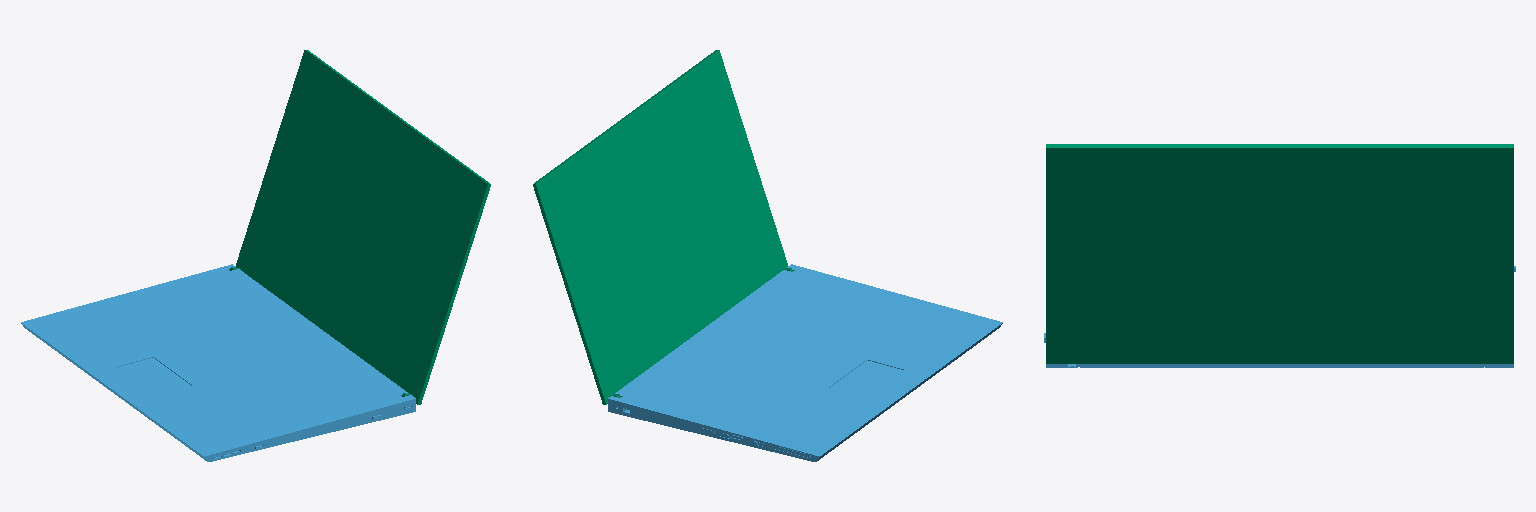
robot.urdf — partnet_2d38fa685e71721986a7e0484f5238e4:
<?xml version="1.0" ?>
<robot name="partnet_2d38fa685e71721986a7e0484f5238e4">
	<link name="base"/>
	<link name="link_0">
		<visual name="keyboard-5">
			<origin xyz="0 0 0"/>
			<geometry>
				<mesh filename="textured_objs/original-136.obj"/>
			</geometry>
		</visual>
		<visual name="keyboard-5">
			<origin xyz="0 0 0"/>
			<geometry>
				<mesh filename="textured_objs/original-106.obj"/>
			</geometry>
		</visual>
		<visual name="keyboard-5">
			<origin xyz="0 0 0"/>
			<geometry>
				<mesh filename="textured_objs/original-107.obj"/>
			</geometry>
		</visual>
		<visual name="keyboard-5">
			<origin xyz="0 0 0"/>
			<geometry>
				<mesh filename="textured_objs/original-108.obj"/>
			</geometry>
		</visual>
		<visual name="keyboard-5">
			<origin xyz="0 0 0"/>
			<geometry>
				<mesh filename="textured_objs/original-109.obj"/>
			</geometry>
		</visual>
		<visual name="keyboard-5">
			<origin xyz="0 0 0"/>
			<geometry>
				<mesh filename="textured_objs/original-110.obj"/>
			</geometry>
		</visual>
		<visual name="keyboard-5">
			<origin xyz="0 0 0"/>
			<geometry>
				<mesh filename="textured_objs/original-111.obj"/>
			</geometry>
		</visual>
		<visual name="keyboard-5">
			<origin xyz="0 0 0"/>
			<geometry>
				<mesh filename="textured_objs/original-112.obj"/>
			</geometry>
		</visual>
		<visual name="keyboard-5">
			<origin xyz="0 0 0"/>
			<geometry>
				<mesh filename="textured_objs/original-113.obj"/>
			</geometry>
		</visual>
		<visual name="keyboard-5">
			<origin xyz="0 0 0"/>
			<geometry>
				<mesh filename="textured_objs/original-82.obj"/>
			</geometry>
		</visual>
		<visual name="keyboard-5">
			<origin xyz="0 0 0"/>
			<geometry>
				<mesh filename="textured_objs/original-84.obj"/>
			</geometry>
		</visual>
		<visual name="keyboard-5">
			<origin xyz="0 0 0"/>
			<geometry>
				<mesh filename="textured_objs/original-83.obj"/>
			</geometry>
		</visual>
		<visual name="keyboard-5">
			<origin xyz="0 0 0"/>
			<geometry>
				<mesh filename="textured_objs/original-104.obj"/>
			</geometry>
		</visual>
		<visual name="keyboard-5">
			<origin xyz="0 0 0"/>
			<geometry>
				<mesh filename="textured_objs/original-103.obj"/>
			</geometry>
		</visual>
		<visual name="keyboard-5">
			<origin xyz="0 0 0"/>
			<geometry>
				<mesh filename="textured_objs/original-102.obj"/>
			</geometry>
		</visual>
		<visual name="keyboard-5">
			<origin xyz="0 0 0"/>
			<geometry>
				<mesh filename="textured_objs/original-101.obj"/>
			</geometry>
		</visual>
		<visual name="keyboard-5">
			<origin xyz="0 0 0"/>
			<geometry>
				<mesh filename="textured_objs/original-100.obj"/>
			</geometry>
		</visual>
		<visual name="keyboard-5">
			<origin xyz="0 0 0"/>
			<geometry>
				<mesh filename="textured_objs/original-99.obj"/>
			</geometry>
		</visual>
		<visual name="keyboard-5">
			<origin xyz="0 0 0"/>
			<geometry>
				<mesh filename="textured_objs/original-98.obj"/>
			</geometry>
		</visual>
		<visual name="keyboard-5">
			<origin xyz="0 0 0"/>
			<geometry>
				<mesh filename="textured_objs/original-97.obj"/>
			</geometry>
		</visual>
		<visual name="keyboard-5">
			<origin xyz="0 0 0"/>
			<geometry>
				<mesh filename="textured_objs/original-95.obj"/>
			</geometry>
		</visual>
		<visual name="keyboard-5">
			<origin xyz="0 0 0"/>
			<geometry>
				<mesh filename="textured_objs/original-96.obj"/>
			</geometry>
		</visual>
		<visual name="keyboard-5">
			<origin xyz="0 0 0"/>
			<geometry>
				<mesh filename="textured_objs/original-94.obj"/>
			</geometry>
		</visual>
		<visual name="keyboard-5">
			<origin xyz="0 0 0"/>
			<geometry>
				<mesh filename="textured_objs/original-93.obj"/>
			</geometry>
		</visual>
		<visual name="keyboard-5">
			<origin xyz="0 0 0"/>
			<geometry>
				<mesh filename="textured_objs/original-92.obj"/>
			</geometry>
		</visual>
		<visual name="keyboard-5">
			<origin xyz="0 0 0"/>
			<geometry>
				<mesh filename="textured_objs/original-91.obj"/>
			</geometry>
		</visual>
		<visual name="keyboard-5">
			<origin xyz="0 0 0"/>
			<geometry>
				<mesh filename="textured_objs/original-90.obj"/>
			</geometry>
		</visual>
		<visual name="keyboard-5">
			<origin xyz="0 0 0"/>
			<geometry>
				<mesh filename="textured_objs/original-89.obj"/>
			</geometry>
		</visual>
		<visual name="keyboard-5">
			<origin xyz="0 0 0"/>
			<geometry>
				<mesh filename="textured_objs/original-88.obj"/>
			</geometry>
		</visual>
		<visual name="keyboard-5">
			<origin xyz="0 0 0"/>
			<geometry>
				<mesh filename="textured_objs/original-87.obj"/>
			</geometry>
		</visual>
		<visual name="keyboard-5">
			<origin xyz="0 0 0"/>
			<geometry>
				<mesh filename="textured_objs/original-86.obj"/>
			</geometry>
		</visual>
		<visual name="keyboard-5">
			<origin xyz="0 0 0"/>
			<geometry>
				<mesh filename="textured_objs/original-80.obj"/>
			</geometry>
		</visual>
		<visual name="keyboard-5">
			<origin xyz="0 0 0"/>
			<geometry>
				<mesh filename="textured_objs/original-79.obj"/>
			</geometry>
		</visual>
		<visual name="keyboard-5">
			<origin xyz="0 0 0"/>
			<geometry>
				<mesh filename="textured_objs/original-78.obj"/>
			</geometry>
		</visual>
		<visual name="keyboard-5">
			<origin xyz="0 0 0"/>
			<geometry>
				<mesh filename="textured_objs/original-77.obj"/>
			</geometry>
		</visual>
		<visual name="keyboard-5">
			<origin xyz="0 0 0"/>
			<geometry>
				<mesh filename="textured_objs/original-76.obj"/>
			</geometry>
		</visual>
		<visual name="keyboard-5">
			<origin xyz="0 0 0"/>
			<geometry>
				<mesh filename="textured_objs/original-75.obj"/>
			</geometry>
		</visual>
		<visual name="keyboard-5">
			<origin xyz="0 0 0"/>
			<geometry>
				<mesh filename="textured_objs/original-73.obj"/>
			</geometry>
		</visual>
		<visual name="keyboard-5">
			<origin xyz="0 0 0"/>
			<geometry>
				<mesh filename="textured_objs/original-74.obj"/>
			</geometry>
		</visual>
		<visual name="keyboard-5">
			<origin xyz="0 0 0"/>
			<geometry>
				<mesh filename="textured_objs/original-72.obj"/>
			</geometry>
		</visual>
		<visual name="keyboard-5">
			<origin xyz="0 0 0"/>
			<geometry>
				<mesh filename="textured_objs/new-5.obj"/>
			</geometry>
		</visual>
		<visual name="touchpad_surface-8">
			<origin xyz="0 0 0"/>
			<geometry>
				<mesh filename="textured_objs/new-3.obj"/>
			</geometry>
		</visual>
		<visual name="button-9">
			<origin xyz="0 0 0"/>
			<geometry>
				<mesh filename="textured_objs/new-4.obj"/>
			</geometry>
		</visual>
		<visual name="base_frame-7">
			<origin xyz="0 0 0"/>
			<geometry>
				<mesh filename="textured_objs/new-6.obj"/>
			</geometry>
		</visual>
		<collision>
			<origin xyz="0 0 0"/>
			<geometry>
				<mesh filename="textured_objs/original-136.obj"/>
			</geometry>
		</collision>
		<collision>
			<origin xyz="0 0 0"/>
			<geometry>
				<mesh filename="textured_objs/original-106.obj"/>
			</geometry>
		</collision>
		<collision>
			<origin xyz="0 0 0"/>
			<geometry>
				<mesh filename="textured_objs/original-107.obj"/>
			</geometry>
		</collision>
		<collision>
			<origin xyz="0 0 0"/>
			<geometry>
				<mesh filename="textured_objs/original-108.obj"/>
			</geometry>
		</collision>
		<collision>
			<origin xyz="0 0 0"/>
			<geometry>
				<mesh filename="textured_objs/original-109.obj"/>
			</geometry>
		</collision>
		<collision>
			<origin xyz="0 0 0"/>
			<geometry>
				<mesh filename="textured_objs/original-110.obj"/>
			</geometry>
		</collision>
		<collision>
			<origin xyz="0 0 0"/>
			<geometry>
				<mesh filename="textured_objs/original-111.obj"/>
			</geometry>
		</collision>
		<collision>
			<origin xyz="0 0 0"/>
			<geometry>
				<mesh filename="textured_objs/original-112.obj"/>
			</geometry>
		</collision>
		<collision>
			<origin xyz="0 0 0"/>
			<geometry>
				<mesh filename="textured_objs/original-113.obj"/>
			</geometry>
		</collision>
		<collision>
			<origin xyz="0 0 0"/>
			<geometry>
				<mesh filename="textured_objs/original-82.obj"/>
			</geometry>
		</collision>
		<collision>
			<origin xyz="0 0 0"/>
			<geometry>
				<mesh filename="textured_objs/original-84.obj"/>
			</geometry>
		</collision>
		<collision>
			<origin xyz="0 0 0"/>
			<geometry>
				<mesh filename="textured_objs/original-83.obj"/>
			</geometry>
		</collision>
		<collision>
			<origin xyz="0 0 0"/>
			<geometry>
				<mesh filename="textured_objs/original-104.obj"/>
			</geometry>
		</collision>
		<collision>
			<origin xyz="0 0 0"/>
			<geometry>
				<mesh filename="textured_objs/original-103.obj"/>
			</geometry>
		</collision>
		<collision>
			<origin xyz="0 0 0"/>
			<geometry>
				<mesh filename="textured_objs/original-102.obj"/>
			</geometry>
		</collision>
		<collision>
			<origin xyz="0 0 0"/>
			<geometry>
				<mesh filename="textured_objs/original-101.obj"/>
			</geometry>
		</collision>
		<collision>
			<origin xyz="0 0 0"/>
			<geometry>
				<mesh filename="textured_objs/original-100.obj"/>
			</geometry>
		</collision>
		<collision>
			<origin xyz="0 0 0"/>
			<geometry>
				<mesh filename="textured_objs/original-99.obj"/>
			</geometry>
		</collision>
		<collision>
			<origin xyz="0 0 0"/>
			<geometry>
				<mesh filename="textured_objs/original-98.obj"/>
			</geometry>
		</collision>
		<collision>
			<origin xyz="0 0 0"/>
			<geometry>
				<mesh filename="textured_objs/original-97.obj"/>
			</geometry>
		</collision>
		<collision>
			<origin xyz="0 0 0"/>
			<geometry>
				<mesh filename="textured_objs/original-95.obj"/>
			</geometry>
		</collision>
		<collision>
			<origin xyz="0 0 0"/>
			<geometry>
				<mesh filename="textured_objs/original-96.obj"/>
			</geometry>
		</collision>
		<collision>
			<origin xyz="0 0 0"/>
			<geometry>
				<mesh filename="textured_objs/original-94.obj"/>
			</geometry>
		</collision>
		<collision>
			<origin xyz="0 0 0"/>
			<geometry>
				<mesh filename="textured_objs/original-93.obj"/>
			</geometry>
		</collision>
		<collision>
			<origin xyz="0 0 0"/>
			<geometry>
				<mesh filename="textured_objs/original-92.obj"/>
			</geometry>
		</collision>
		<collision>
			<origin xyz="0 0 0"/>
			<geometry>
				<mesh filename="textured_objs/original-91.obj"/>
			</geometry>
		</collision>
		<collision>
			<origin xyz="0 0 0"/>
			<geometry>
				<mesh filename="textured_objs/original-90.obj"/>
			</geometry>
		</collision>
		<collision>
			<origin xyz="0 0 0"/>
			<geometry>
				<mesh filename="textured_objs/original-89.obj"/>
			</geometry>
		</collision>
		<collision>
			<origin xyz="0 0 0"/>
			<geometry>
				<mesh filename="textured_objs/original-88.obj"/>
			</geometry>
		</collision>
		<collision>
			<origin xyz="0 0 0"/>
			<geometry>
				<mesh filename="textured_objs/original-87.obj"/>
			</geometry>
		</collision>
		<collision>
			<origin xyz="0 0 0"/>
			<geometry>
				<mesh filename="textured_objs/original-86.obj"/>
			</geometry>
		</collision>
		<collision>
			<origin xyz="0 0 0"/>
			<geometry>
				<mesh filename="textured_objs/original-80.obj"/>
			</geometry>
		</collision>
		<collision>
			<origin xyz="0 0 0"/>
			<geometry>
				<mesh filename="textured_objs/original-79.obj"/>
			</geometry>
		</collision>
		<collision>
			<origin xyz="0 0 0"/>
			<geometry>
				<mesh filename="textured_objs/original-78.obj"/>
			</geometry>
		</collision>
		<collision>
			<origin xyz="0 0 0"/>
			<geometry>
				<mesh filename="textured_objs/original-77.obj"/>
			</geometry>
		</collision>
		<collision>
			<origin xyz="0 0 0"/>
			<geometry>
				<mesh filename="textured_objs/original-76.obj"/>
			</geometry>
		</collision>
		<collision>
			<origin xyz="0 0 0"/>
			<geometry>
				<mesh filename="textured_objs/original-75.obj"/>
			</geometry>
		</collision>
		<collision>
			<origin xyz="0 0 0"/>
			<geometry>
				<mesh filename="textured_objs/original-73.obj"/>
			</geometry>
		</collision>
		<collision>
			<origin xyz="0 0 0"/>
			<geometry>
				<mesh filename="textured_objs/original-74.obj"/>
			</geometry>
		</collision>
		<collision>
			<origin xyz="0 0 0"/>
			<geometry>
				<mesh filename="textured_objs/original-72.obj"/>
			</geometry>
		</collision>
		<collision>
			<origin xyz="0 0 0"/>
			<geometry>
				<mesh filename="textured_objs/new-5.obj"/>
			</geometry>
		</collision>
		<collision>
			<origin xyz="0 0 0"/>
			<geometry>
				<mesh filename="textured_objs/new-3.obj"/>
			</geometry>
		</collision>
		<collision>
			<origin xyz="0 0 0"/>
			<geometry>
				<mesh filename="textured_objs/new-4.obj"/>
			</geometry>
		</collision>
		<collision>
			<origin xyz="0 0 0"/>
			<geometry>
				<mesh filename="textured_objs/new-6.obj"/>
			</geometry>
		</collision>
	</link>
	<joint name="joint_0" type="fixed">
		<origin rpy="1.570796326794897 0 -1.570796326794897" xyz="0 0 0"/>
		<child link="link_0"/>
		<parent link="base"/>
	</joint>
	<link name="link_1">
		<visual name="screen-10">
			<origin xyz="-0.3077835782590852 0.16835789238554996 0.15242370518316653"/>
			<geometry>
				<mesh filename="textured_objs/new-7.obj"/>
			</geometry>
		</visual>
		<visual name="screen_frame-11">
			<origin xyz="-0.3077835782590852 0.16835789238554996 0.15242370518316653"/>
			<geometry>
				<mesh filename="textured_objs/new-8.obj"/>
			</geometry>
		</visual>
		<visual name="shaft-14">
			<origin xyz="-0.3077835782590852 0.16835789238554996 0.15242370518316653"/>
			<geometry>
				<mesh filename="textured_objs/new-0.obj"/>
			</geometry>
		</visual>
		<visual name="shaft-15">
			<origin xyz="-0.3077835782590852 0.16835789238554996 0.15242370518316653"/>
			<geometry>
				<mesh filename="textured_objs/new-1.obj"/>
			</geometry>
		</visual>
		<collision>
			<origin xyz="-0.3077835782590852 0.16835789238554996 0.15242370518316653"/>
			<geometry>
				<mesh filename="textured_objs/new-7.obj"/>
			</geometry>
		</collision>
		<collision>
			<origin xyz="-0.3077835782590852 0.16835789238554996 0.15242370518316653"/>
			<geometry>
				<mesh filename="textured_objs/new-8.obj"/>
			</geometry>
		</collision>
		<collision>
			<origin xyz="-0.3077835782590852 0.16835789238554996 0.15242370518316653"/>
			<geometry>
				<mesh filename="textured_objs/new-0.obj"/>
			</geometry>
		</collision>
		<collision>
			<origin xyz="-0.3077835782590852 0.16835789238554996 0.15242370518316653"/>
			<geometry>
				<mesh filename="textured_objs/new-1.obj"/>
			</geometry>
		</collision>
	</link>
	<joint name="joint_1" type="revolute">
		<origin xyz="0.3077835782590852 -0.16835789238554996 -0.15242370518316653"/>
		<axis xyz="-0.9298180908706883 0 0"/>
		<child link="link_1"/>
		<parent link="link_0"/>
		<limit lower="-1.9666370011472105" upper="-0.0"/>
	</joint>
</robot>

--- What the picture shows (computed from the rendered views, not written in the file) ---
3 views of the same robot in one strip: view 1: azimuth 30°, elevation 25°; view 2: azimuth 150°, elevation 25°; view 3: azimuth 270°, elevation 25° (orthographic).
Model partnet_2d38fa685e71721986a7e0484f5238e4 with 3 links and 2 joints (1 revolute, 1 fixed), rooted at base, posed all joints at 0.
Visible links, largest first — view 1: link_1, link_0; view 2: link_1, link_0; view 3: link_1, link_0.
Link boxes in pixels (x1,y1,x2,y2): link_1: [230, 50, 490, 404]; link_0: [21, 264, 415, 461]; link_1: [533, 50, 792, 404]; link_0: [608, 264, 1002, 461]; link_1: [1046, 144, 1513, 363]; link_0: [1044, 266, 1515, 367].
Size in the robot's own frame: 1.19 by 1.33 by 0.8331 metres.
48 mesh visuals loaded from 48 distinct referenced files (48 OBJ).
